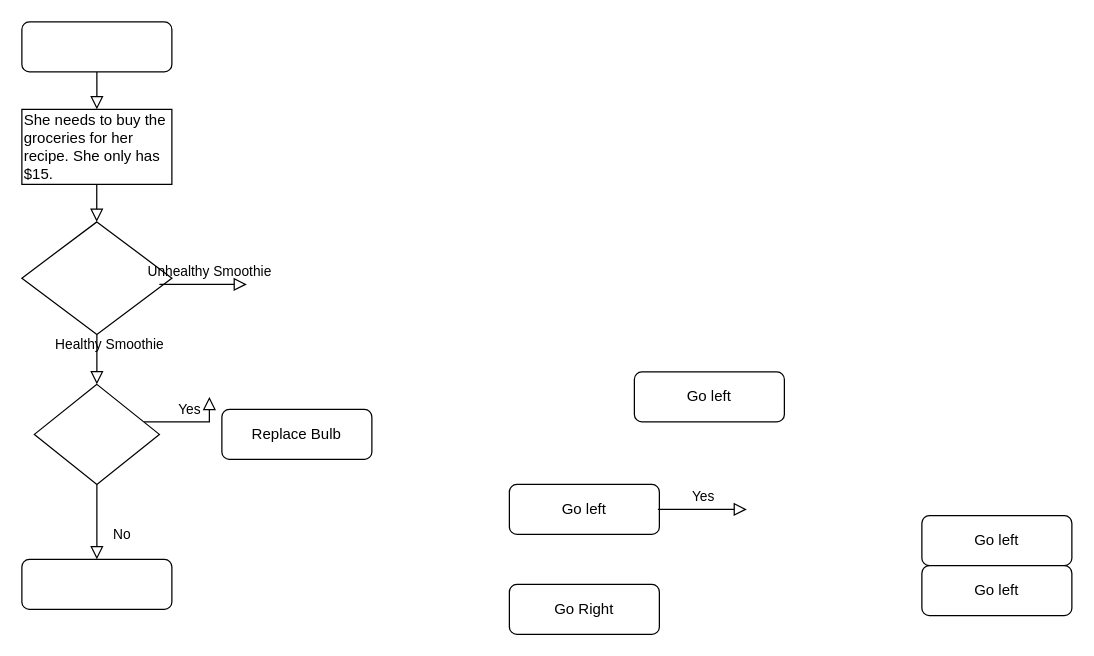
Image size: 1094x656. Some labels were removed from this diagram. The centre of each missing label's shape, as x and y in pixels:
Repair Lamp: the point at 96,583
What smoothie will she make?: the point at 96,277
Woman is grocery shopping.: the point at 96,46
